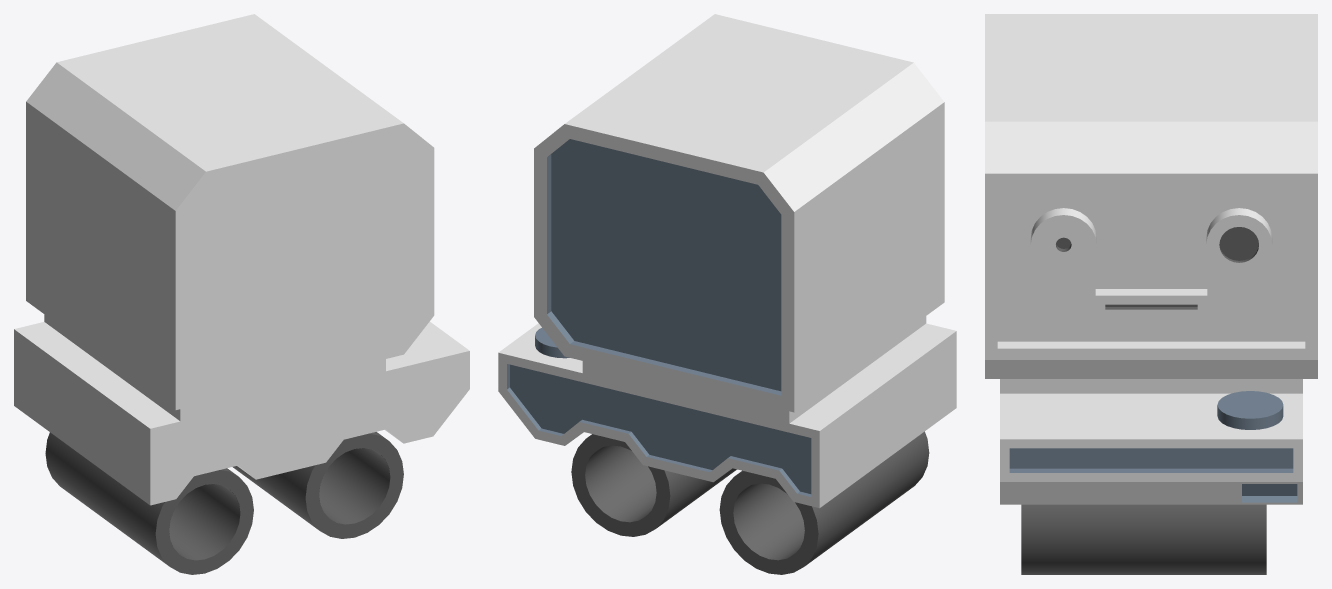
File: Robot.dae
3 views of the same model, side by side, from view 1: azimuth 30°, elevation 25°; view 2: azimuth 150°, elevation 25°; view 3: azimuth 270°, elevation 25° (orthographic). The views are drawn at different scales.
Parts seen in each view (by area): view 1: SketchUp (×6); view 2: SketchUp (×8); view 3: SketchUp (×12).
Part boxes in pixels (x1,y1,x2,y2): SketchUp (×6): (14,14,469,574); SketchUp (×8): (498,14,956,574); SketchUp (×12): (985,14,1317,574).
Bounding box in the file's own units: 61.39 × 49.7 × 76.83.
